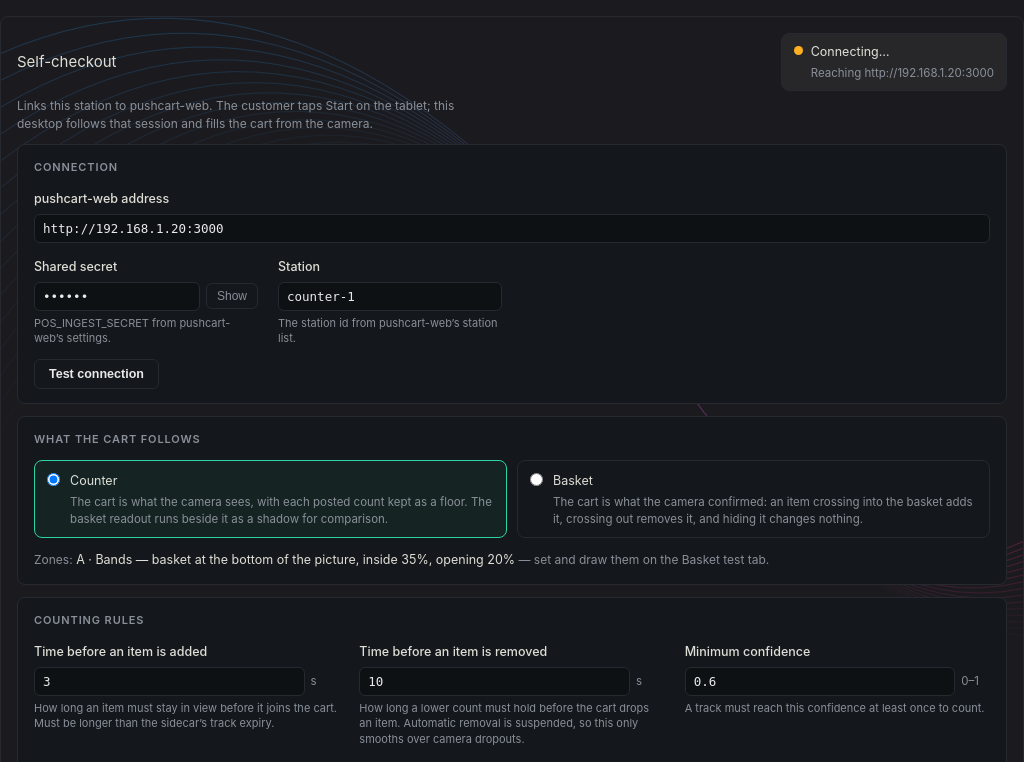
Test: PosAdminSection › enables Save only once something changed, and Discard puts the form back
Check: the field with test id "pos-base-url" holds "http://192.168.1.20:3000", box [34,214,990,243]
Replace the text in the field with test id "pos-station-id" with "counter-2" at (390, 296), box [278,282,502,311]
(page scrolled)
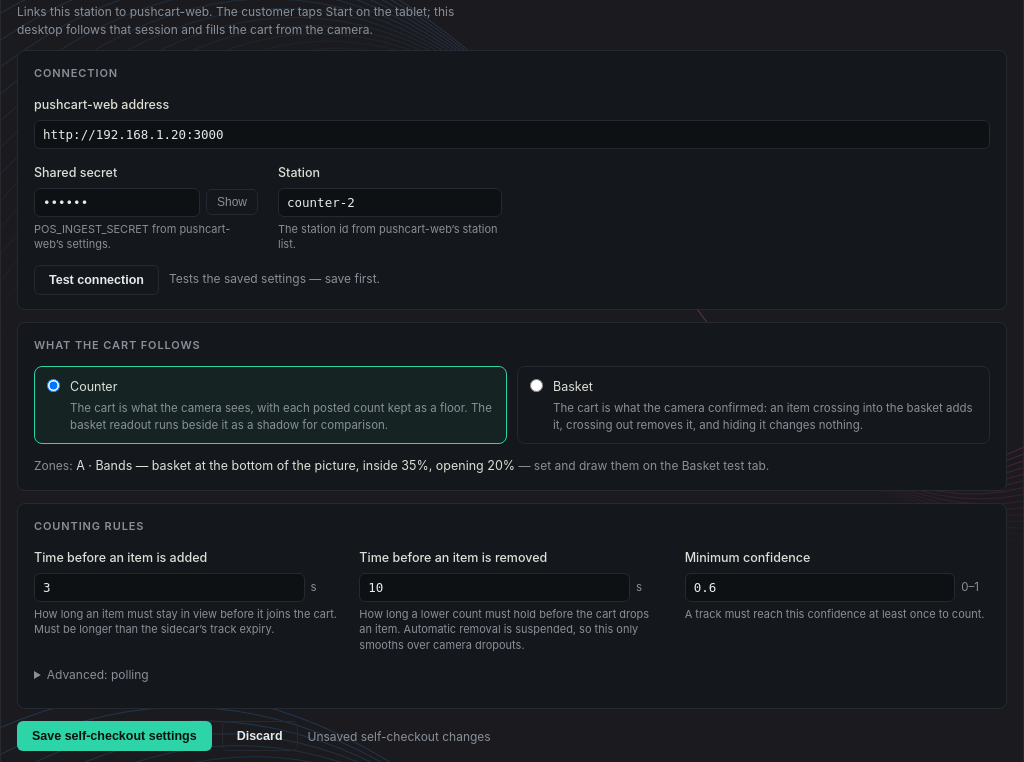
Check: the button "Save self-checkout settings" is enabled, box [17,721,212,751]
Check: the text "Unsaved self-checkout changes" is shown, box [308,727,491,746]
Click the button "Discard" at (260, 736), box [222,721,298,751]
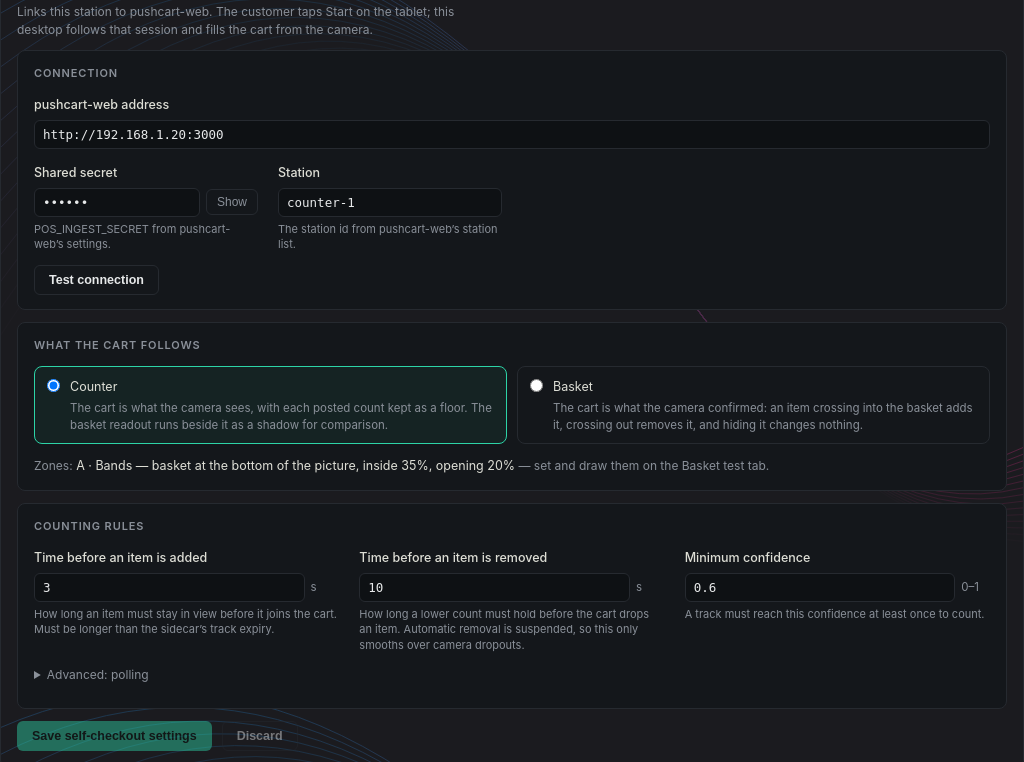
Check: the field with test id "pos-station-id" holds "counter-1", box [278,188,502,217]
Check: the button "Save self-checkout settings" is disabled, box [17,721,212,751]
